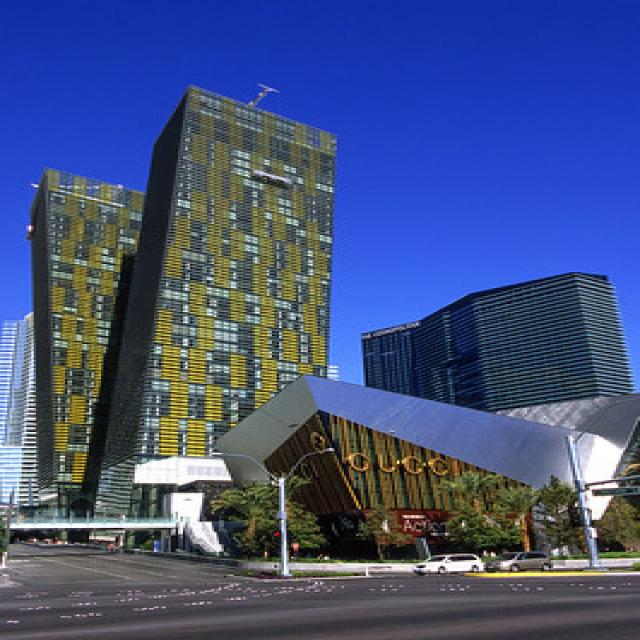Normal_building: (85, 67, 328, 541)
